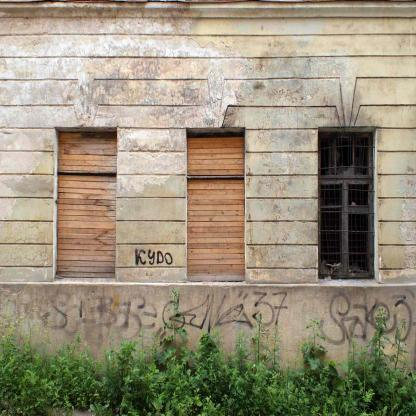Building Outline: (0, 1, 416, 415)
Dont: (0, 287, 416, 416)
Facade: (0, 1, 416, 415)
Ground Floor: (0, 1, 416, 415)
Window: (53, 128, 116, 281), (318, 128, 378, 283), (186, 128, 245, 283)
